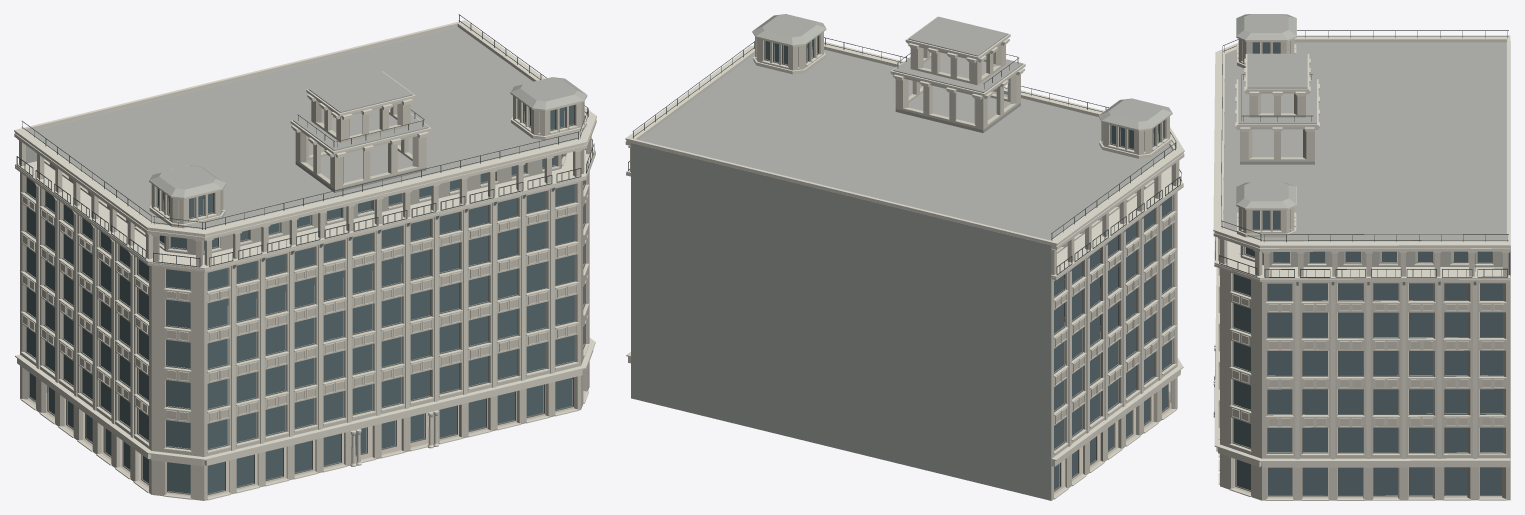
The model's file is huangpu-xinxin-company-lod.glb.
The picture shows the model from 3 angles, left to right: view 1: azimuth 30°, elevation 25°; view 2: azimuth 150°, elevation 25°; view 3: azimuth 270°, elevation 25°; orthographic projection. The views are drawn at different scales.
Parts seen in each view (by area): view 1: 新新公司南侧商店主楼临街外观候选; view 2: 新新公司南侧商店主楼临街外观候选; view 3: 新新公司南侧商店主楼临街外观候选.
Part boxes in pixels (box(x1,y1,x2,y2)): 新新公司南侧商店主楼临街外观候选: box(14, 14, 596, 500); 新新公司南侧商店主楼临街外观候选: box(625, 14, 1184, 500); 新新公司南侧商店主楼临街外观候选: box(1213, 14, 1510, 500).
Bounding box in the file's own units: 51.75 × 37.5 × 30.86.
